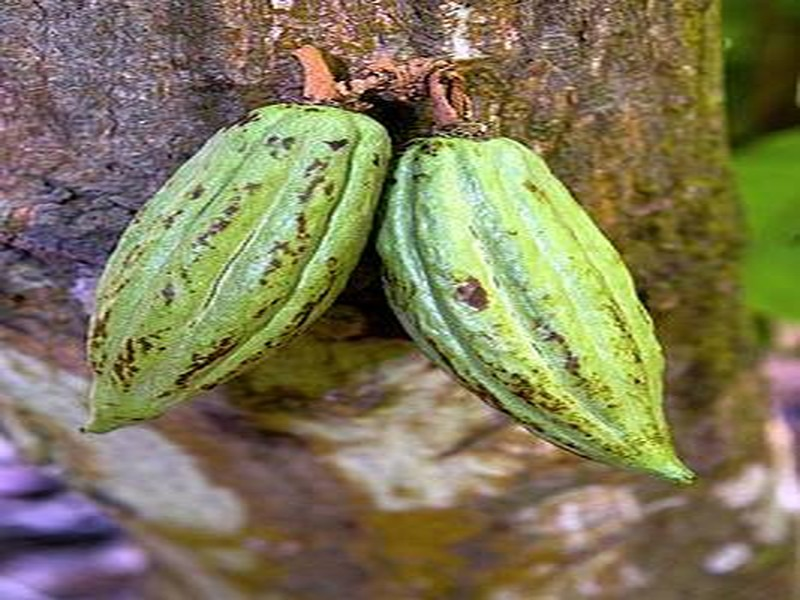Cacaopod: (371, 135, 697, 489), (81, 100, 380, 436)
